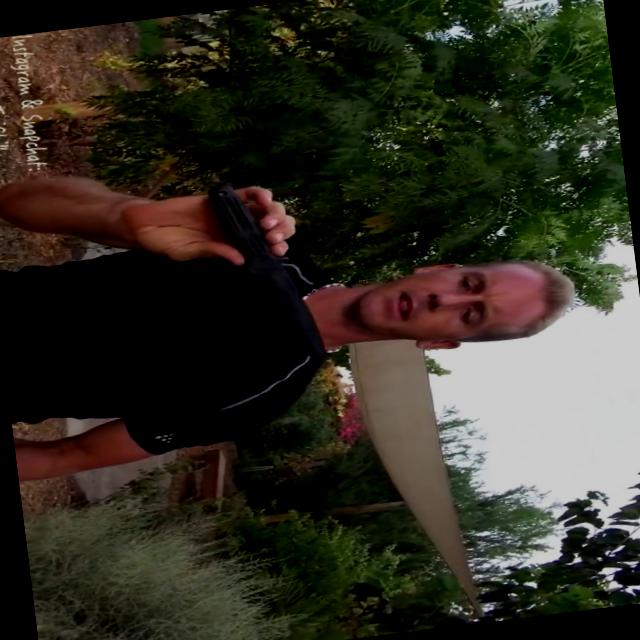knife: (184, 152, 352, 386)
